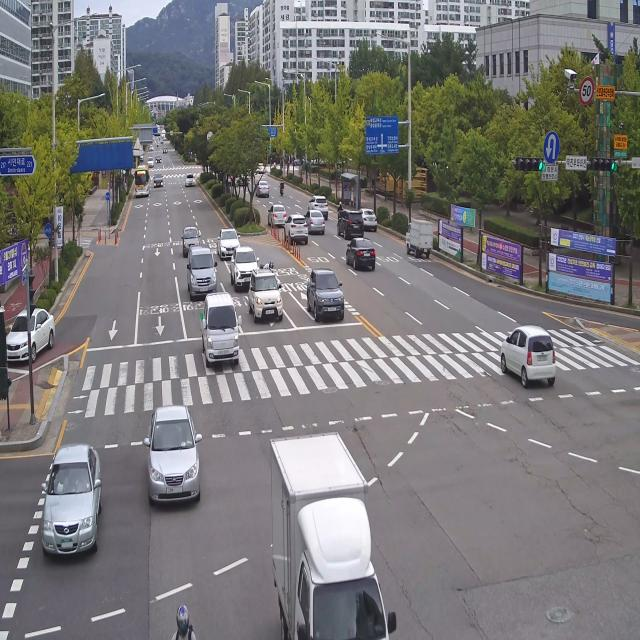Bus: (134, 162, 150, 199)
Car: (34, 437, 104, 577), (142, 395, 203, 518), (486, 305, 568, 396), (3, 296, 61, 374), (302, 262, 352, 326), (247, 259, 286, 329), (183, 239, 220, 306), (344, 229, 383, 288), (284, 206, 313, 253), (332, 209, 369, 245), (231, 241, 256, 289), (219, 219, 239, 265), (180, 221, 202, 253), (308, 193, 331, 220), (304, 210, 326, 234), (270, 200, 289, 226), (151, 169, 168, 198), (359, 206, 378, 231), (183, 168, 200, 194), (255, 179, 271, 200), (147, 152, 154, 169), (154, 151, 163, 164), (162, 145, 168, 154)
Motorcycle: (159, 588, 201, 640), (259, 253, 274, 273), (279, 177, 286, 200), (336, 202, 343, 220)
Truck: (263, 423, 394, 640), (191, 291, 247, 377), (401, 217, 433, 266)
